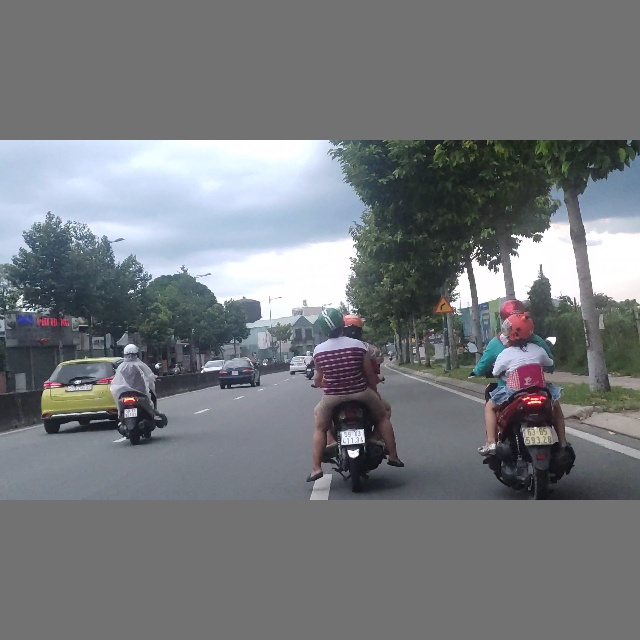W.201b: (433, 295, 455, 314)
